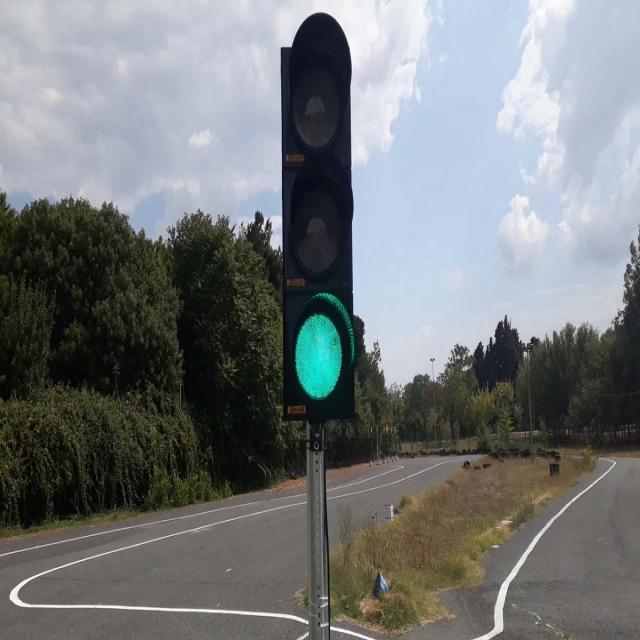yesil: (284, 14, 358, 419)
